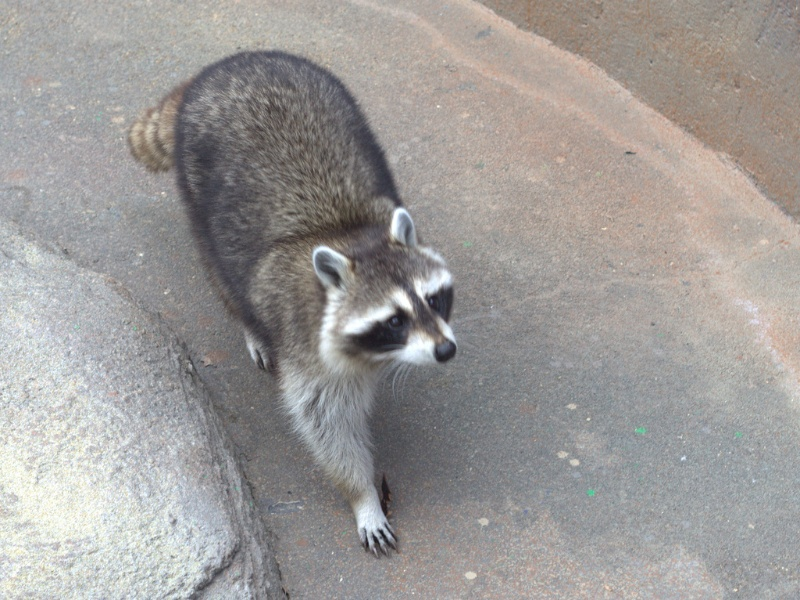raccoon: (128, 42, 458, 562)
